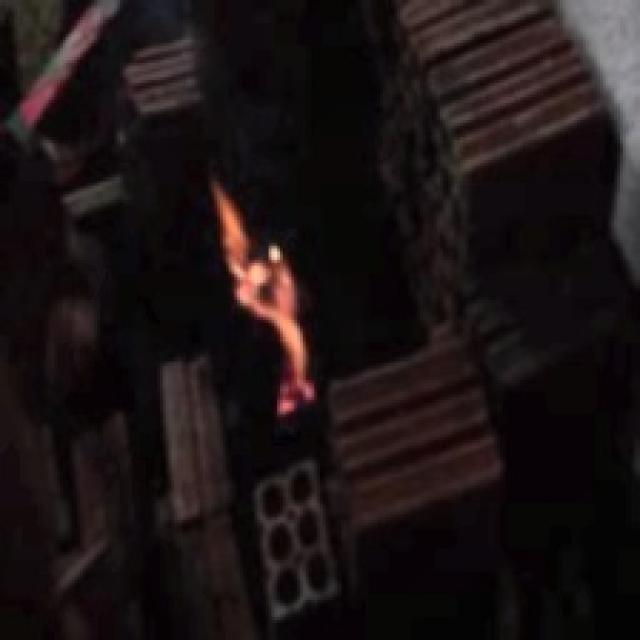fire: (192, 163, 357, 448)
